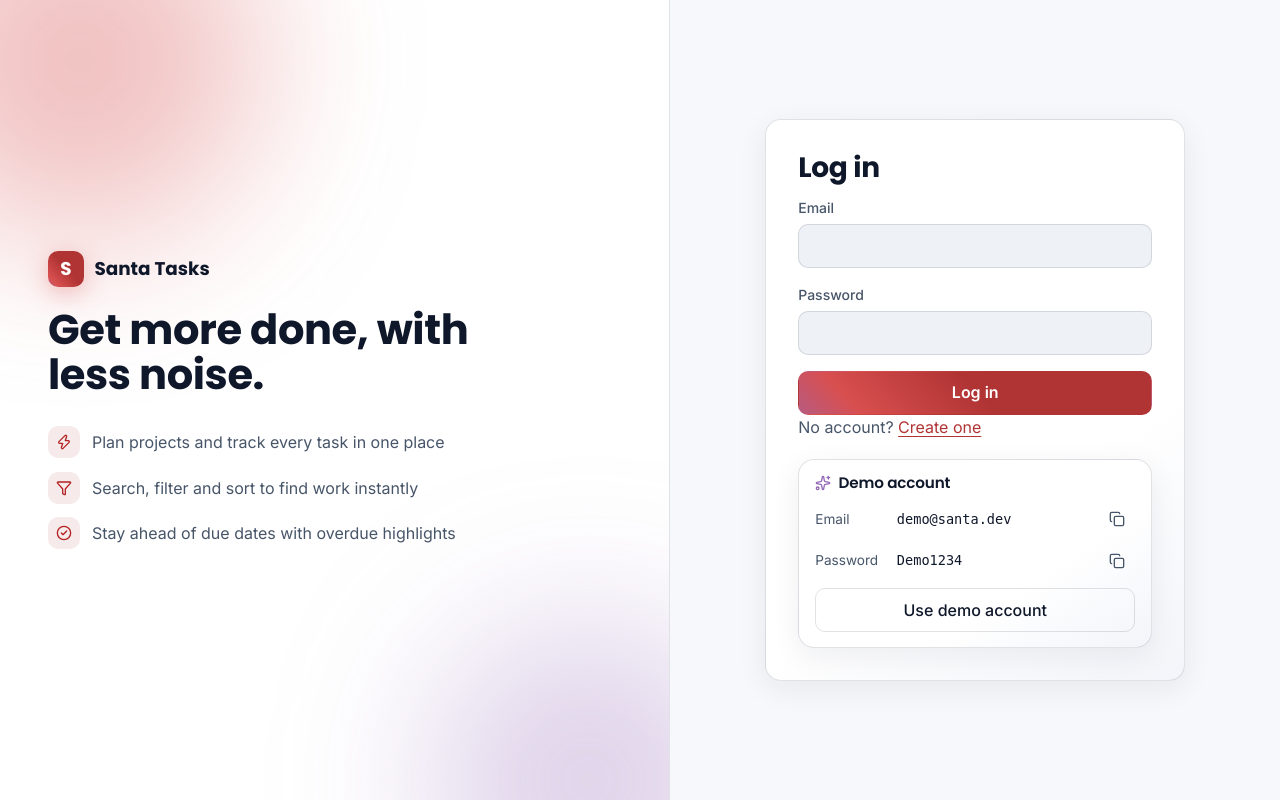
Test: LoginPage › shows a server error when login fails
Step 1. Type "demo@santa.dev" into the field labelled "Email" → (975, 246), box [798,224,1152,268]
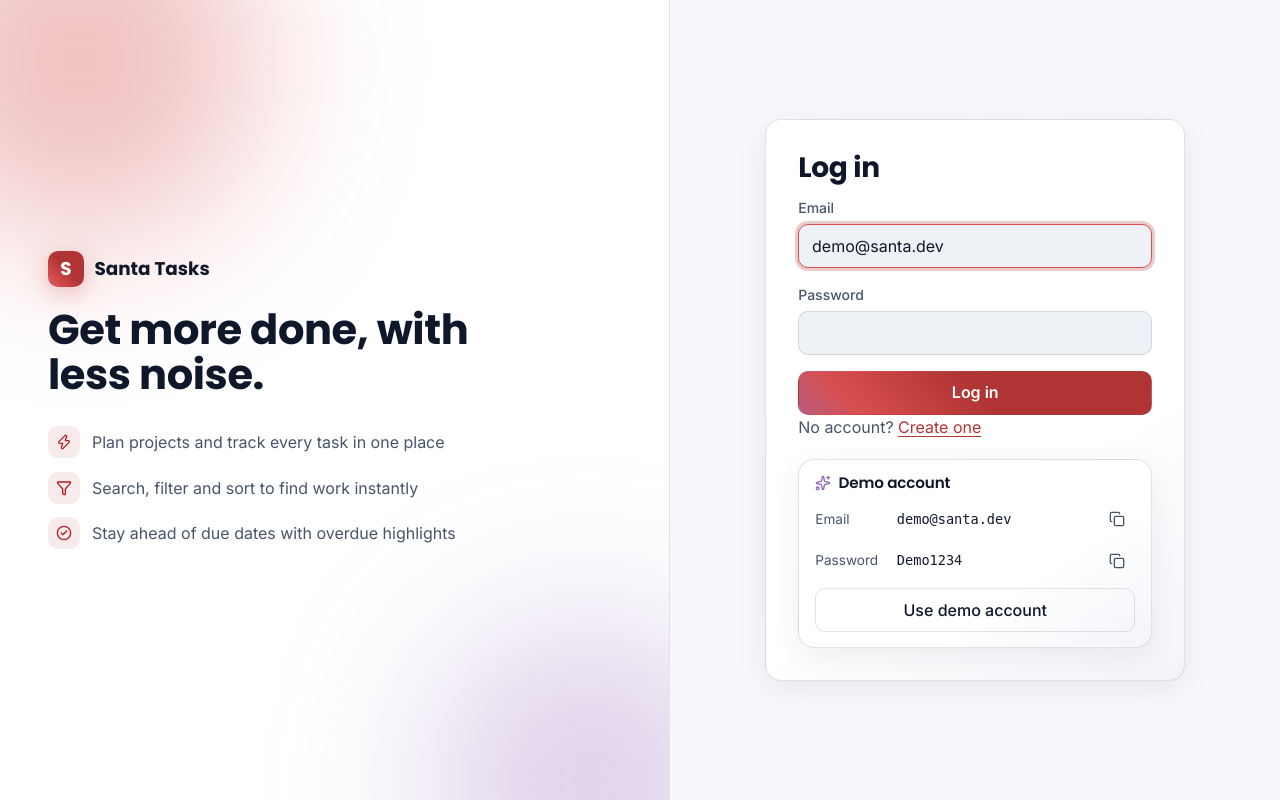
Step 2. Type "Wrong1234" into the password field labelled "Password" → (975, 333), box [798,311,1152,355]
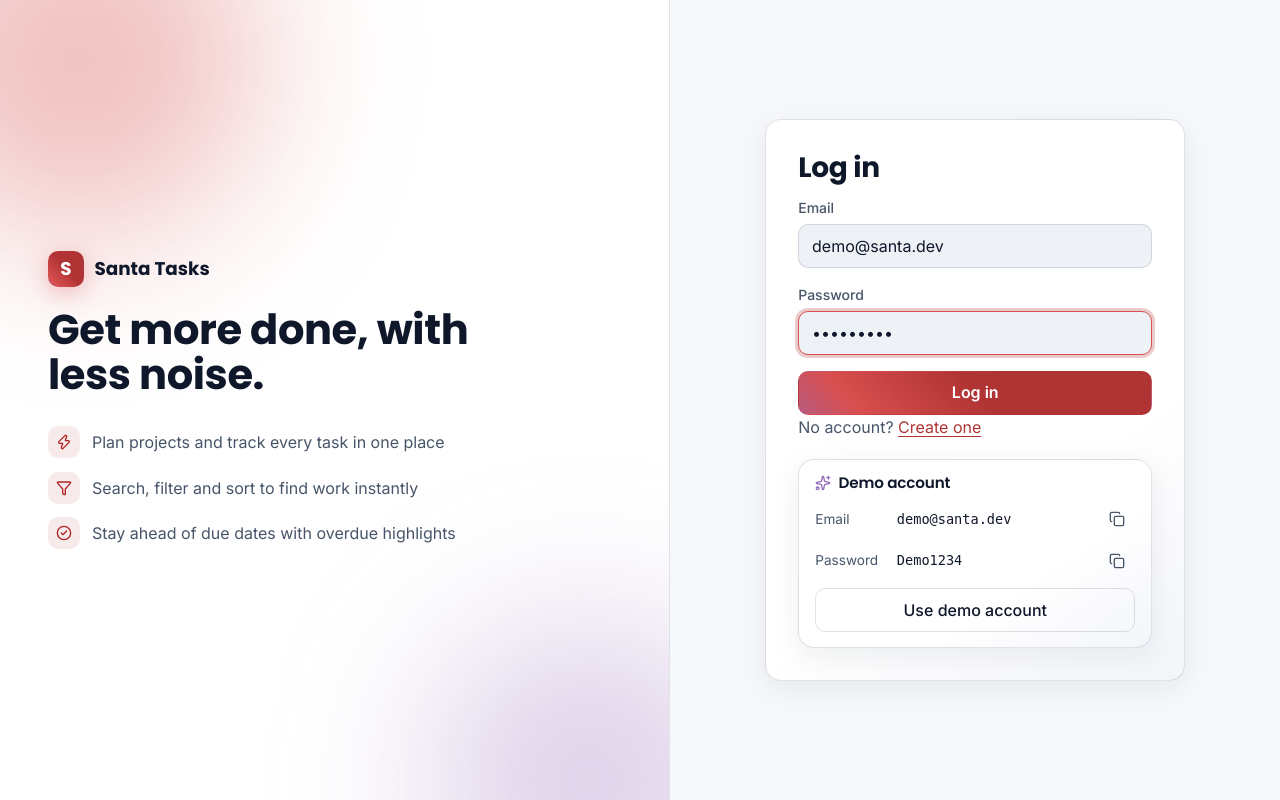
Step 3. Click the button "Log in" → (975, 393), box [798,371,1152,415]
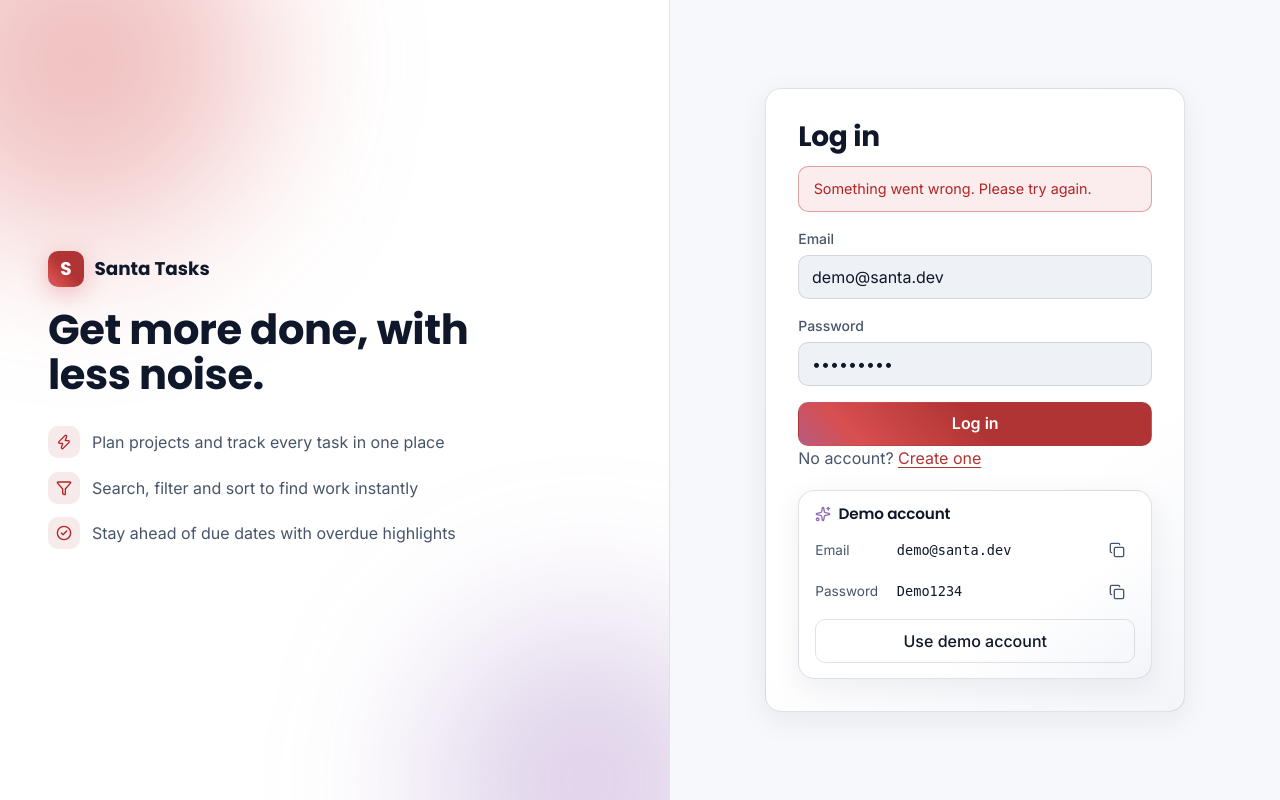
Result: the message shows "Something went wrong" at [814,180,1092,197]
